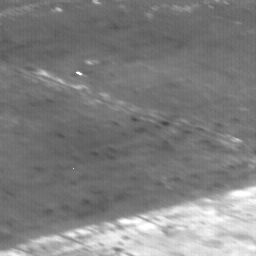aircraft: (78, 72, 80, 74)
